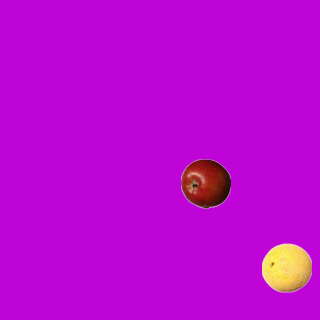Apple Braeburn: (180, 158, 230, 208)
Cantaloupe 1: (261, 242, 311, 292)
